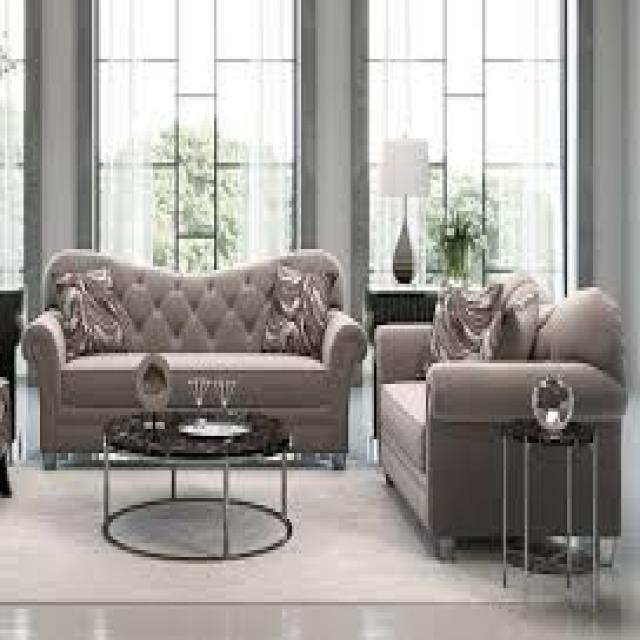Chair: (346, 248, 631, 555), (370, 106, 426, 289)
Sofa: (24, 237, 364, 473)
Table: (95, 390, 304, 557), (491, 416, 612, 601)
